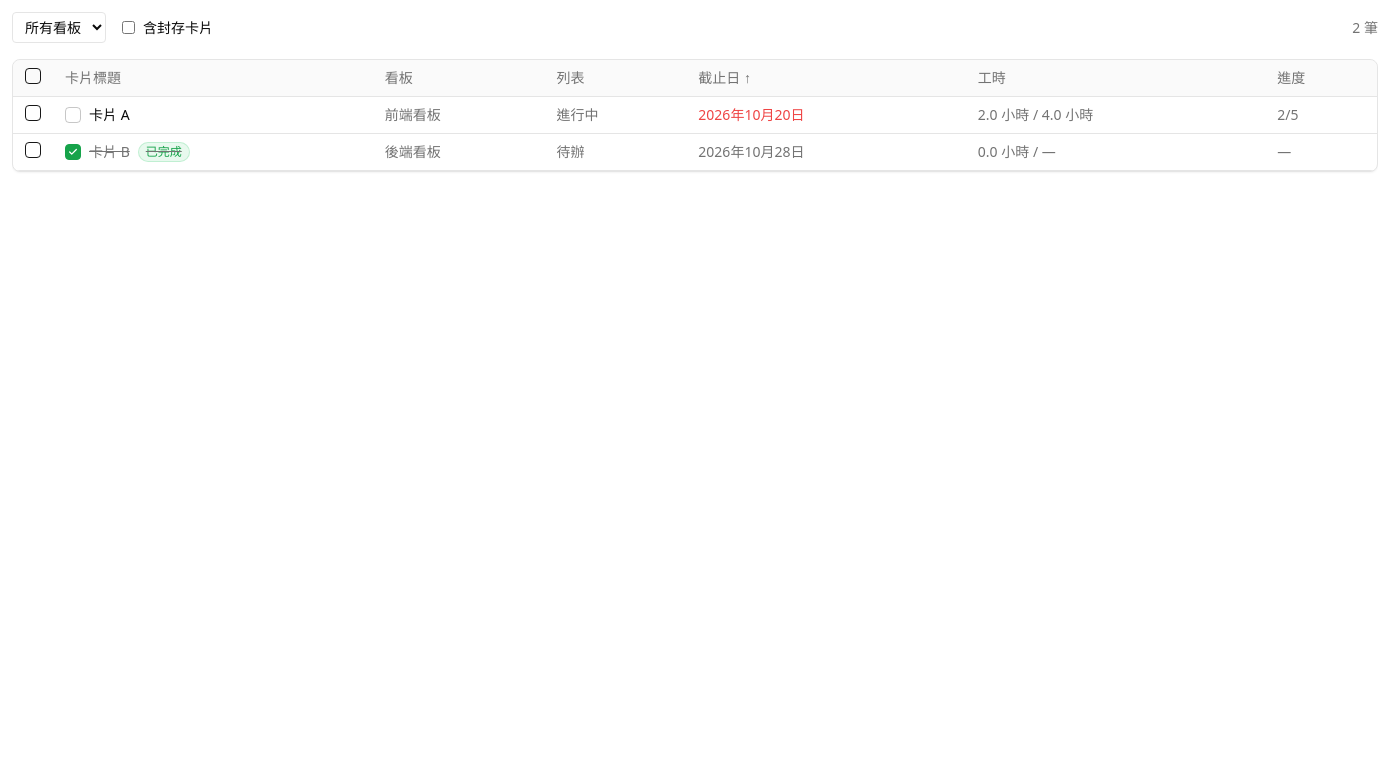
TableTab › toggles_select_all_from_header
Expected: the text "卡片 A" is shown, [89,105,130,125]
Click the checkbox named "全選".
click(33, 76)  # box [25,68,41,84]
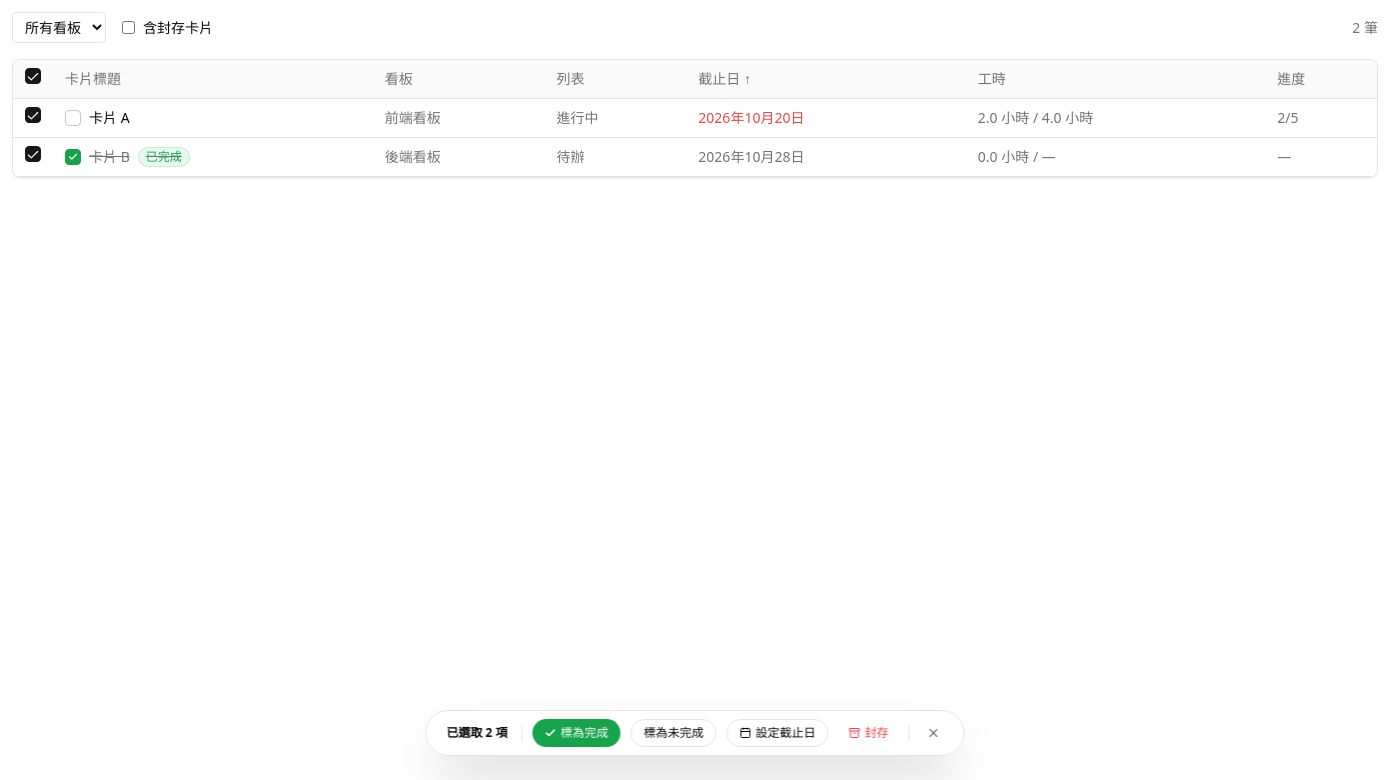
Result: the text "已選取 2 項" is shown at [442,725,512,741]
Click the checkbox named "全選".
click(33, 76)  # box [25,68,41,84]
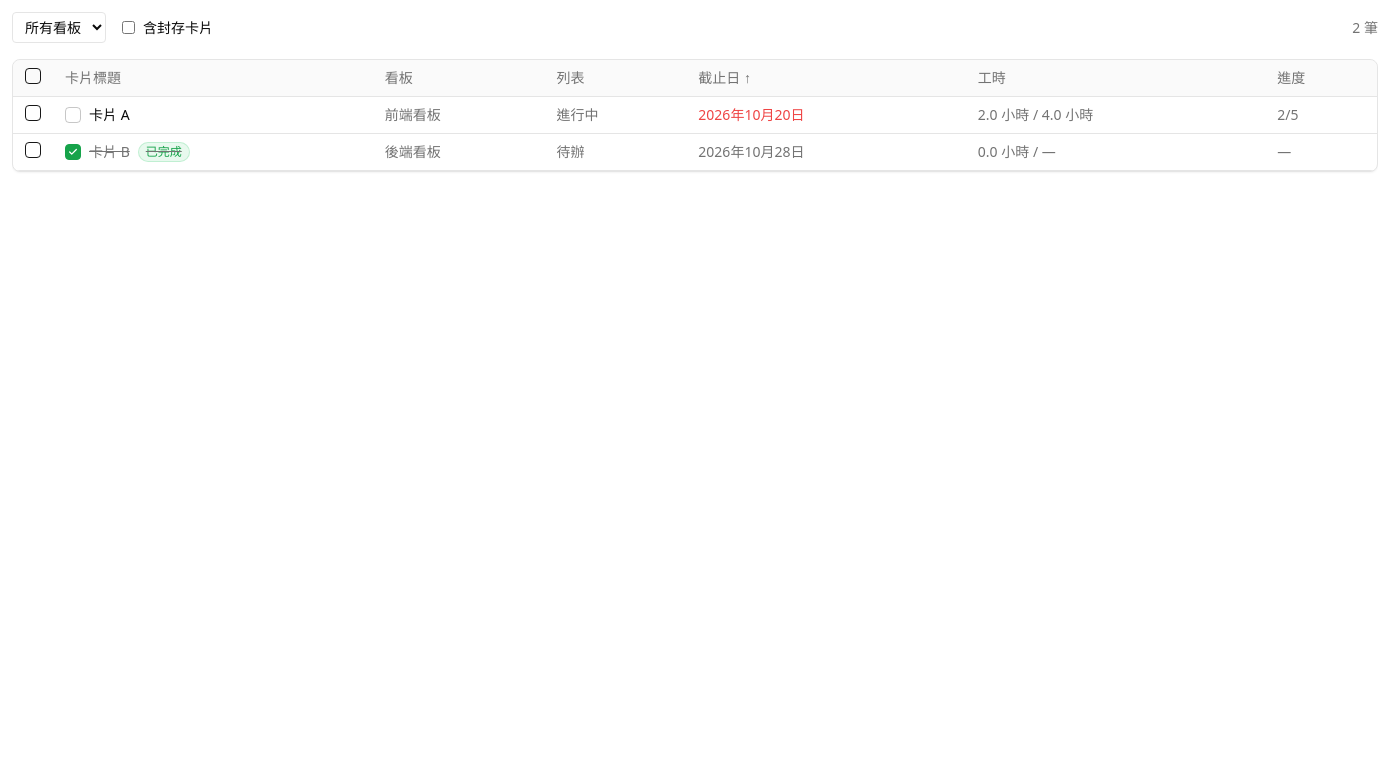
Result: the text "已選取" is gone
